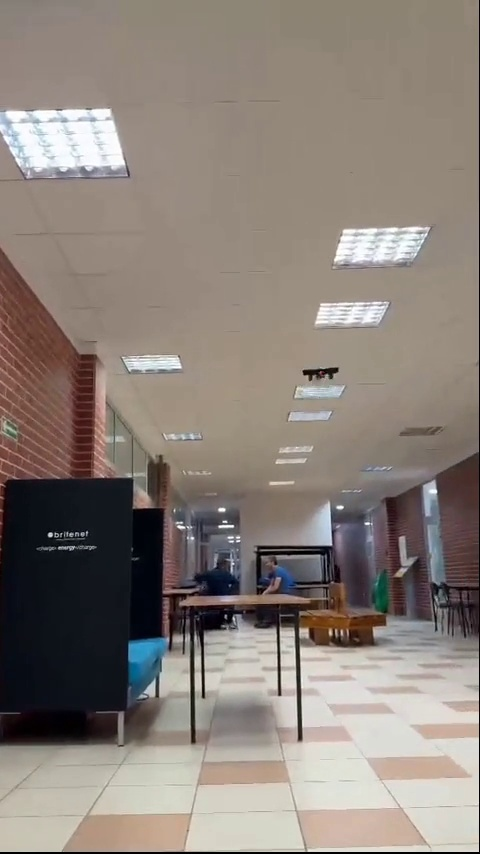drone: (301, 364, 338, 384)
no vest: (253, 554, 301, 598), (198, 559, 239, 599)
